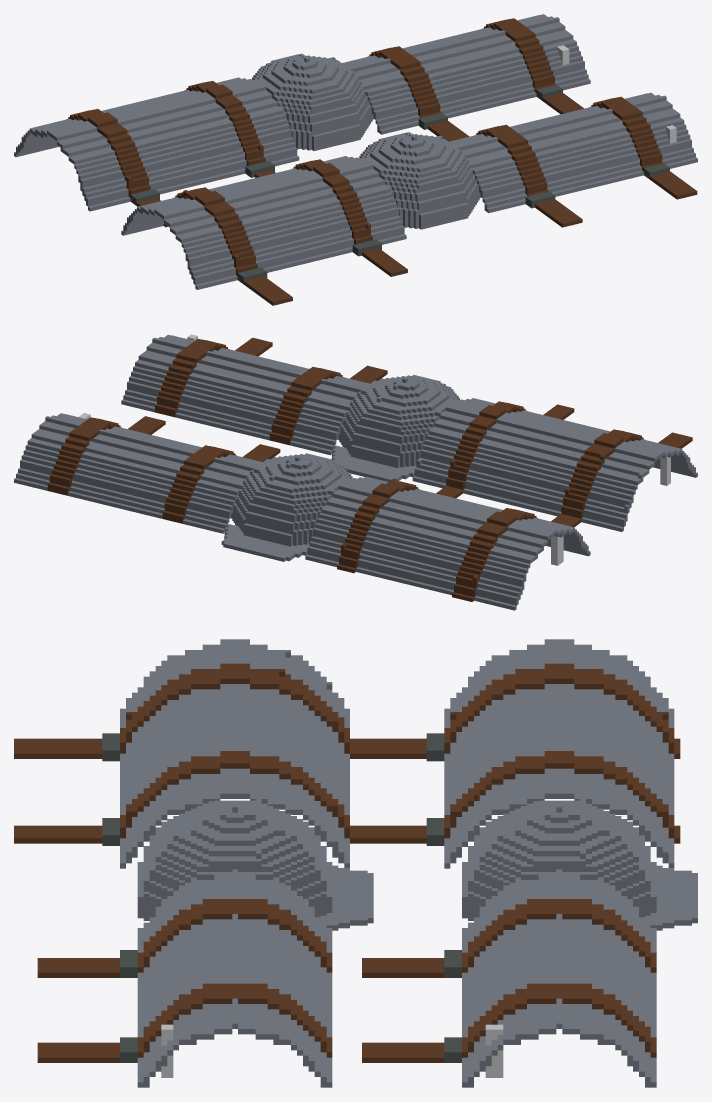
File: ch_legguard_metal_sheets.glb
3 views of the same model, one above another, from view 1: azimuth 30°, elevation 25°; view 2: azimuth 150°, elevation 25°; view 3: azimuth 270°, elevation 25° (orthographic). The views are drawn at different scales.
Parts seen in each view (by area): view 1: ch_legguard_metal_sheets:compound; view 2: ch_legguard_metal_sheets:compound; view 3: ch_legguard_metal_sheets:compound.
Part boxes in pixels (box(x1,y1,x2,y2)): ch_legguard_metal_sheets:compound: box(14, 14, 697, 305); ch_legguard_metal_sheets:compound: box(14, 334, 697, 610); ch_legguard_metal_sheets:compound: box(14, 639, 697, 1087).
Size of the model in its own units: 0.6 by 0.072 by 0.464.
